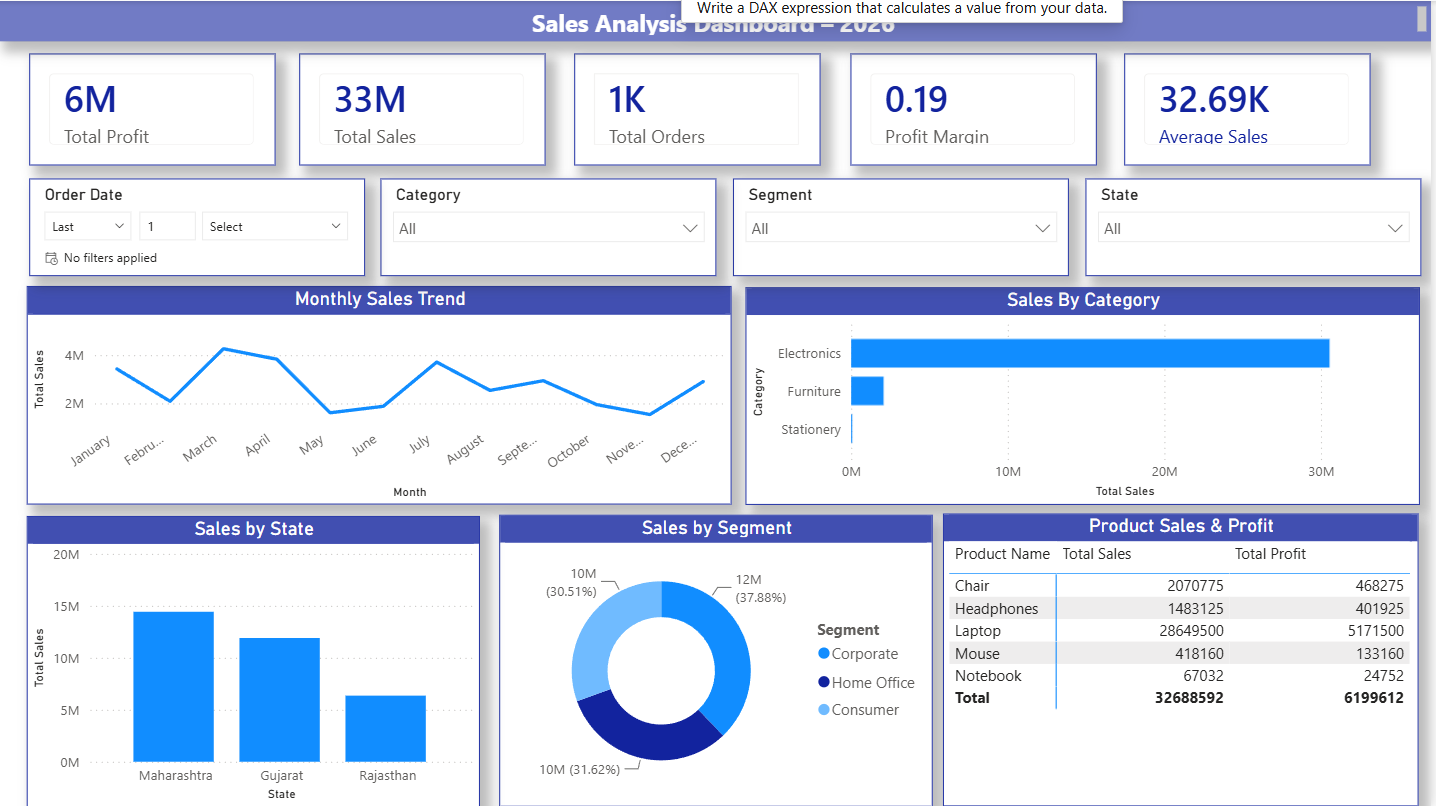

The dashboard page shown, as its layout file describes it:
{"tool":"powerbi","page":{"name":"Page 1","canvas":[1280,720],"ordinal":0},"visuals":[{"type":"lineChart","title":"Monthly Sales Trend","fields":{"Category":["Orders.Order Date.Variation.Date Hierarchy.Month"],"Y":["Orders.Total Sales"]},"box":[26.2,254.8,629.8,195.2],"z":0},{"type":"clusteredBarChart","title":"Sales By Category","fields":{"Category":["Orders.Category"],"Y":["Orders.Total Sales"]},"box":[667.9,256,602.4,194],"z":1000},{"type":"donutChart","title":"Sales by Segment","fields":{"Category":["Customers.Segment"],"Y":["Orders.Total Sales"]},"box":[447.2,459.3,387.2,260.5],"z":2000},{"type":"clusteredColumnChart","title":"Sales by State","fields":{"Y":["Orders.Total Sales"],"Category":["Orders.State"]},"box":[26.2,459.5,404.8,260.7],"z":3000},{"type":"pivotTable","title":"Product Sales & Profit","fields":{"Rows":["Orders.Product Name"],"Values":["Orders.Total Sales","Orders.Total Profit"]},"box":[844.7,458.4,424.4,261.6],"z":4000},{"type":"cardVisual","fields":{"Data":["Orders.Total Sales"]},"box":[269.4,47.4,219.8,100],"z":5000},{"type":"cardVisual","fields":{"Data":["Orders.Total Profit"]},"box":[27.6,47.4,219.8,100],"z":6000},{"type":"cardVisual","fields":{"Data":["Orders.Total Orders"]},"box":[514.8,47.4,219.8,100],"z":7000},{"type":"cardVisual","fields":{"Data":["Orders.Profit Margin"]},"box":[761.3,47.4,219.8,100],"z":8000},{"type":"cardVisual","fields":{"Data":["Orders.Average Sales"]},"box":[1006.6,47.4,219.8,100],"z":9000},{"type":"slicer","fields":{"Values":["Customers.Segment"]},"box":[656.5,158.7,300,87.2],"z":10000},{"type":"slicer","fields":{"Values":["Orders.State"]},"box":[971.7,158.7,300,87.2],"z":11000},{"type":"slicer","fields":{"Values":["Orders.Category"]},"box":[341.4,158.7,300,87.2],"z":12000},{"type":"slicer","fields":{"Values":["Orders.Order Date"]},"box":[27.5,158.7,300,87.2],"z":13000},{"type":"textbox","box":[0,0,1281,35.7],"z":14000}]}

Visuals, with their boxes in screenshot pixels (x1, y1, x2, y2):
"Monthly Sales Trend" lineChart: region(29, 282, 726, 498)
"Sales By Category" clusteredBarChart: region(739, 283, 1405, 498)
"Sales by Segment" donutChart: region(495, 508, 923, 796)
"Sales by State" clusteredColumnChart: region(29, 508, 477, 797)
"Product Sales & Profit" pivotTable: region(935, 507, 1404, 797)
cardVisual - Orders.Total Sales: region(298, 52, 541, 163)
cardVisual - Orders.Total Profit: region(31, 52, 274, 163)
cardVisual - Orders.Total Orders: region(570, 52, 813, 163)
cardVisual - Orders.Profit Margin: region(842, 52, 1085, 163)
cardVisual - Orders.Average Sales: region(1114, 52, 1357, 163)
slicer - Customers.Segment: region(726, 176, 1058, 272)
slicer - Orders.State: region(1075, 176, 1407, 272)
slicer - Orders.Category: region(378, 176, 710, 272)
slicer - Orders.Order Date: region(30, 176, 362, 272)
textbox: region(0, 0, 1417, 39)
